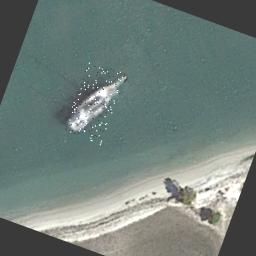boat: (63, 60, 126, 146)
